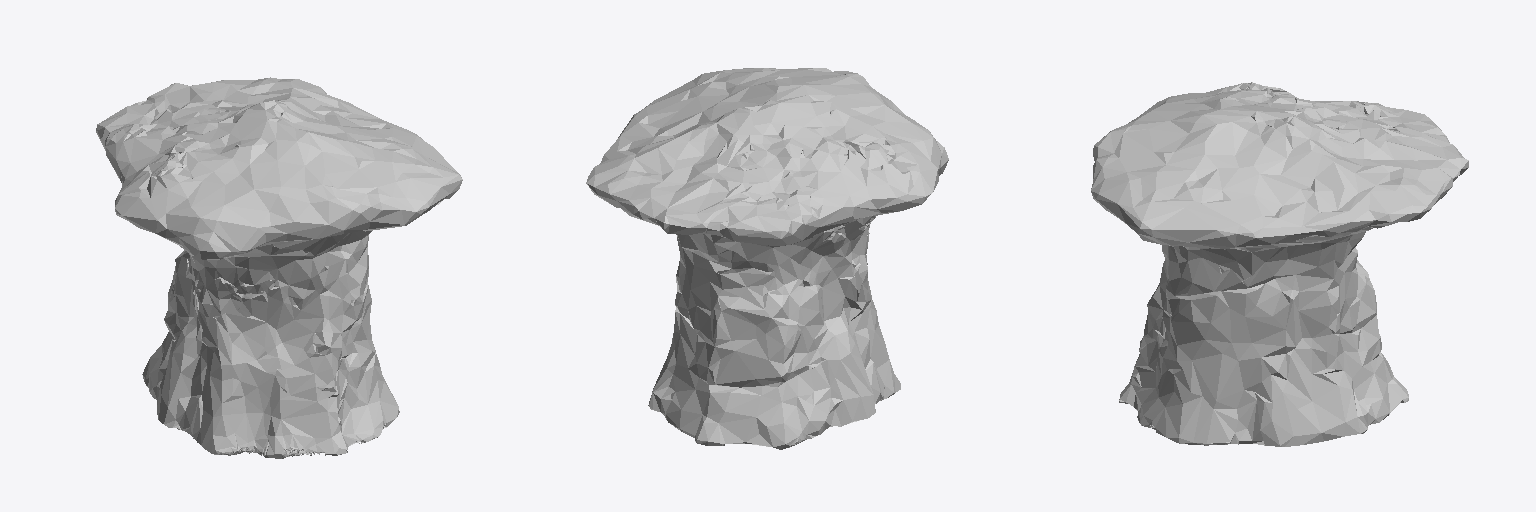
Rendered from CliffMushroom02_Reduced02.obj.
3 renders of one model, left to right at view 1: azimuth 30°, elevation 25°; view 2: azimuth 150°, elevation 25°; view 3: azimuth 270°, elevation 25°, orthographic.
Visible parts, largest first — view 1: Group41303; view 2: Group41303; view 3: Group41303.
Part boxes in pixels (x1,y1,x2,y2): Group41303: (96,77,462,458); Group41303: (586,68,948,449); Group41303: (1091,82,1468,446).
Bounding box in the file's own units: 4.21 × 3.93 × 4.62.